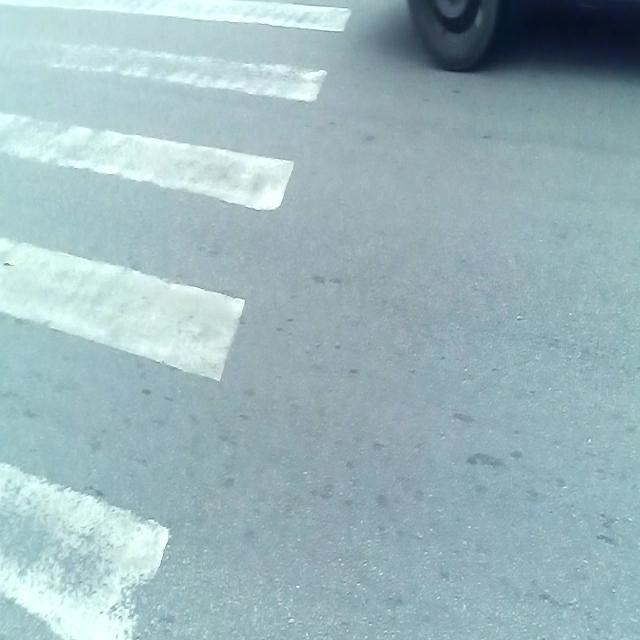crosswalk: (0, 0, 358, 640)
